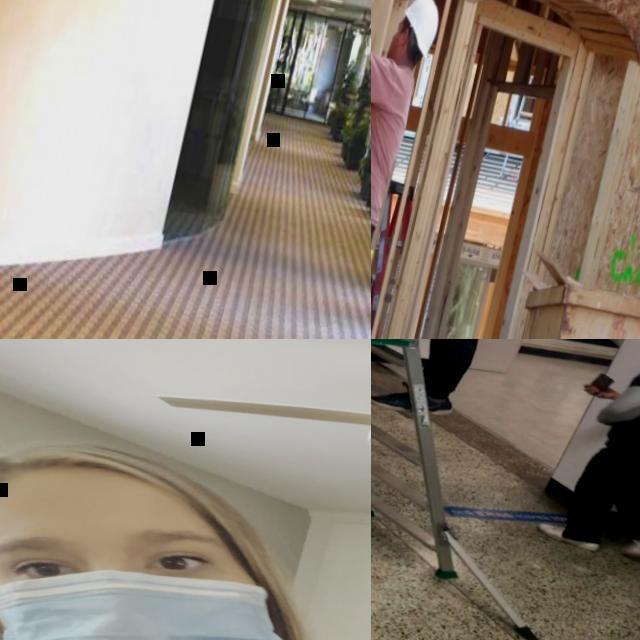helmet: (394, 0, 443, 61)
